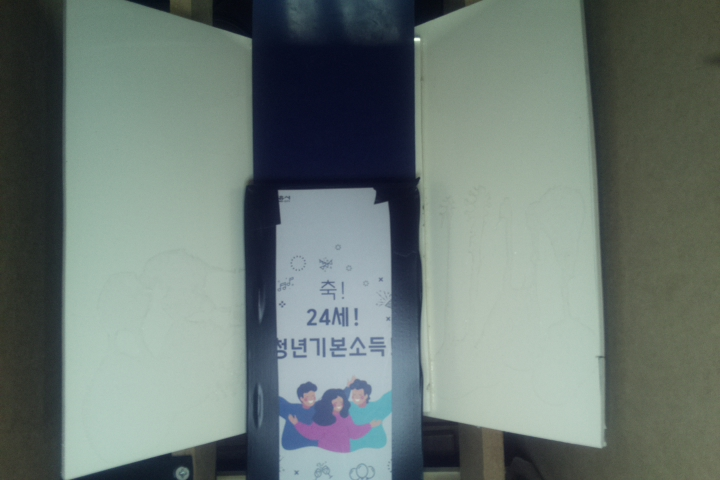book: (246, 176, 423, 480)
